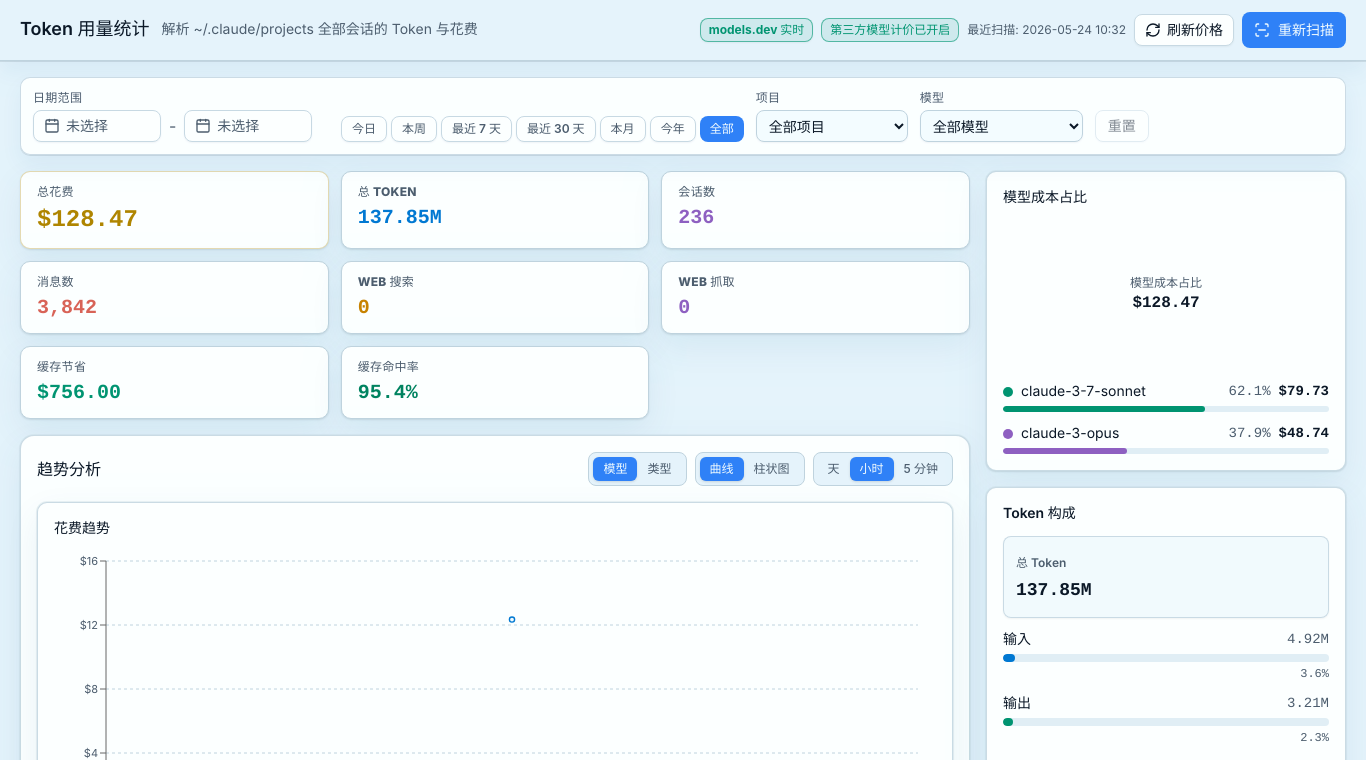
UsagePage cost cockpit › uses one trend classification switch for both cost and token charts
Click the button "类型" at [660, 469], box [638,457,682,481]
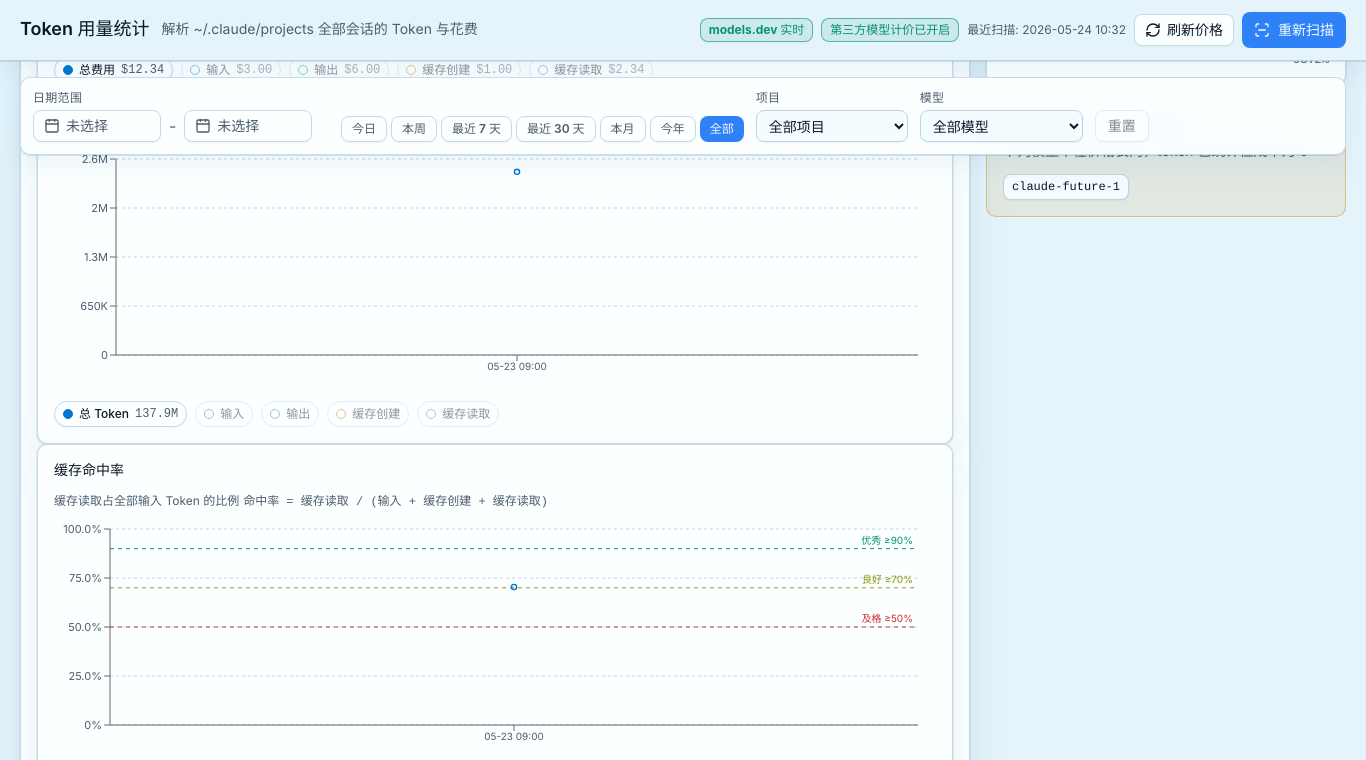
Now the list named "花费趋势" shows "输入", box [181,61,281,83]
Now the list named "花费趋势" shows "输出", box [289,61,389,83]
Now the list named "花费趋势" shows "缓存创建", box [397,61,521,83]
